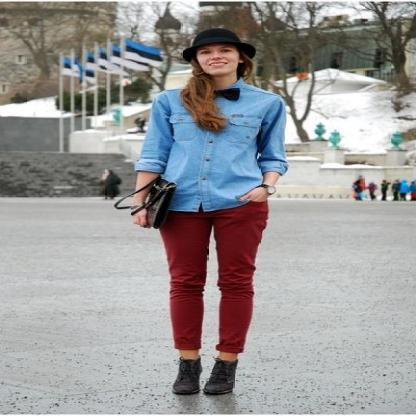bag: (137, 174, 186, 236)
hat: (178, 28, 255, 66)
pants: (163, 200, 268, 357)
shirt: (125, 75, 296, 211)
shoe: (173, 358, 236, 396)
